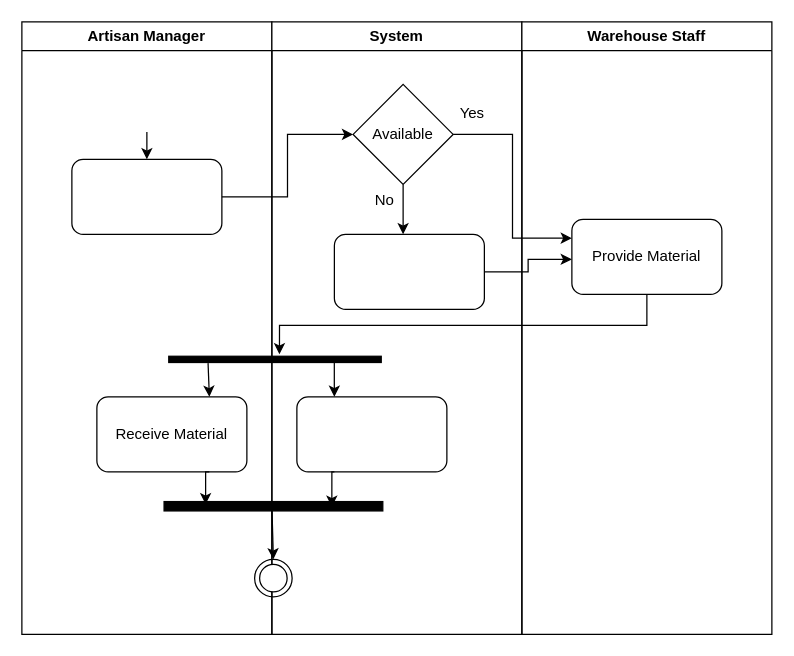
This 794x656 diagram has some shape labels left out. Each missing label, with the centre of its shape:
Create Bill of Materials: the point at 371,434
Request Material: the point at 146,196
Resupply: the point at 408,271
